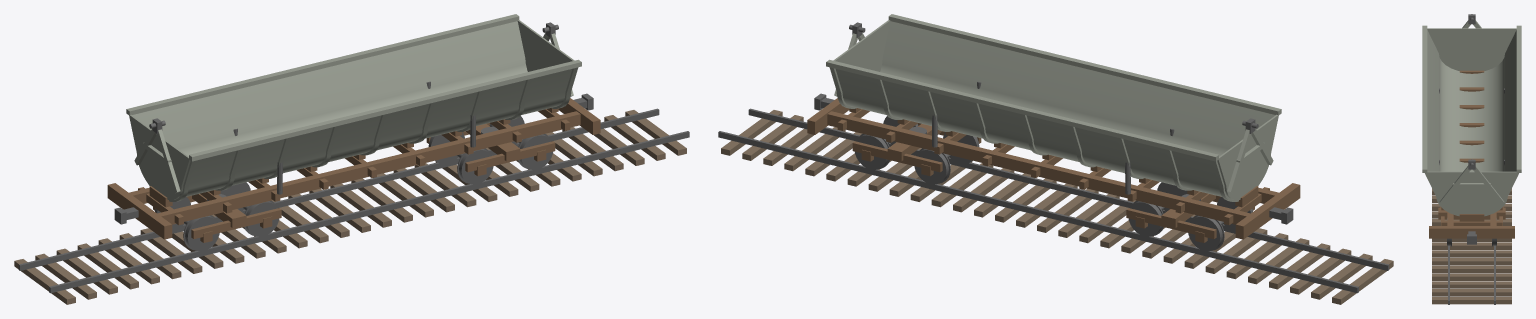
Rendered from carrirer.fbx.
3 views of the same model, side by side, from view 1: azimuth 30°, elevation 25°; view 2: azimuth 150°, elevation 25°; view 3: azimuth 270°, elevation 25° (orthographic). The views are drawn at different scales.
Parts seen in each view (by area): view 1: tub_shell, sill_1, rail_1, rail__1, tub_rim_1, tub_rim__1, tub_end__1, tub_end_1, endbeam__1, truck_A_sideframe_1, truck_B_sideframe_1, sleeper_000 (+26 smaller); view 2: tub_shell, sill__1, rail__1, rail_1, tub_rim__1, tub_rim_1, tub_end__1, tub_end_1, endbeam__1, truck_A_sideframe__1, truck_B_sideframe__1, sleeper_000 (+26 smaller); view 3: tub_shell, tub_end__1, tub_end_1, endbeam_1, tub_rim__1, tub_rim_1, sleeper_025, sleeper_023, sleeper_024, sleeper_026, sleeper_027, sleeper_028 (+24 smaller).
Part boxes in pixels (box(x1,y1,x2,y2)): tub_shell: box(132, 21, 572, 196); sill_1: box(157, 111, 580, 224); rail_1: box(49, 131, 689, 293); rail__1: box(18, 108, 659, 270); tub_rim_1: box(189, 59, 581, 161); tub_rim__1: box(126, 14, 519, 115); tub_end__1: box(129, 114, 190, 199); tub_end_1: box(517, 20, 574, 96); endbeam__1: box(107, 183, 172, 239); truck_A_sideframe_1: box(191, 208, 281, 238); truck_B_sideframe_1: box(465, 141, 555, 172); sleeper_000: box(14, 259, 75, 304); tub_shell: box(835, 21, 1275, 196); sill__1: box(827, 111, 1250, 224); rail__1: box(718, 131, 1358, 293); rail_1: box(748, 108, 1389, 270); tub_rim__1: box(826, 59, 1218, 161); tub_rim_1: box(888, 14, 1281, 115); tub_end__1: box(1217, 114, 1278, 199); tub_end_1: box(833, 20, 890, 96); endbeam__1: box(1235, 183, 1300, 239); truck_A_sideframe__1: box(1126, 208, 1216, 238); truck_B_sideframe__1: box(852, 141, 942, 172); sleeper_000: box(1332, 259, 1393, 304); tub_shell: box(1427, 30, 1516, 171); tub_end__1: box(1427, 28, 1516, 70); tub_end_1: box(1426, 171, 1517, 215); endbeam_1: box(1429, 226, 1514, 238); tub_rim__1: box(1516, 25, 1521, 172); tub_rim_1: box(1422, 25, 1427, 172); sleeper_025: box(1432, 265, 1511, 273); sleeper_023: box(1432, 250, 1511, 257); sleeper_024: box(1432, 258, 1511, 265); sleeper_026: box(1432, 273, 1511, 280); sleeper_027: box(1432, 281, 1511, 288); sleeper_028: box(1432, 289, 1511, 296).
Size of the model in its own units: 1820 by 372 by 324.
